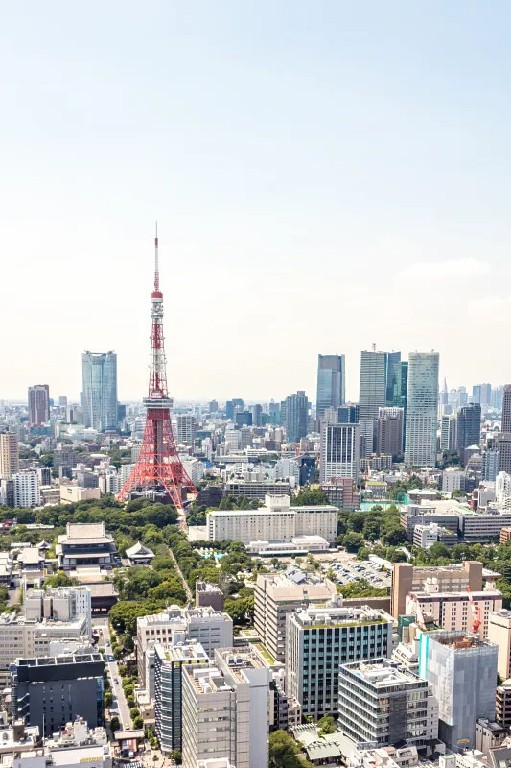Tokyo: (119, 216, 196, 531)
